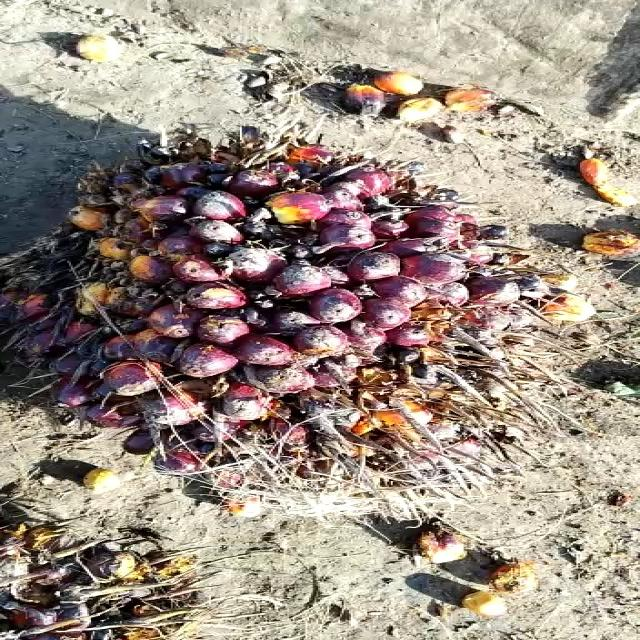palm oil: (5, 137, 512, 490)
